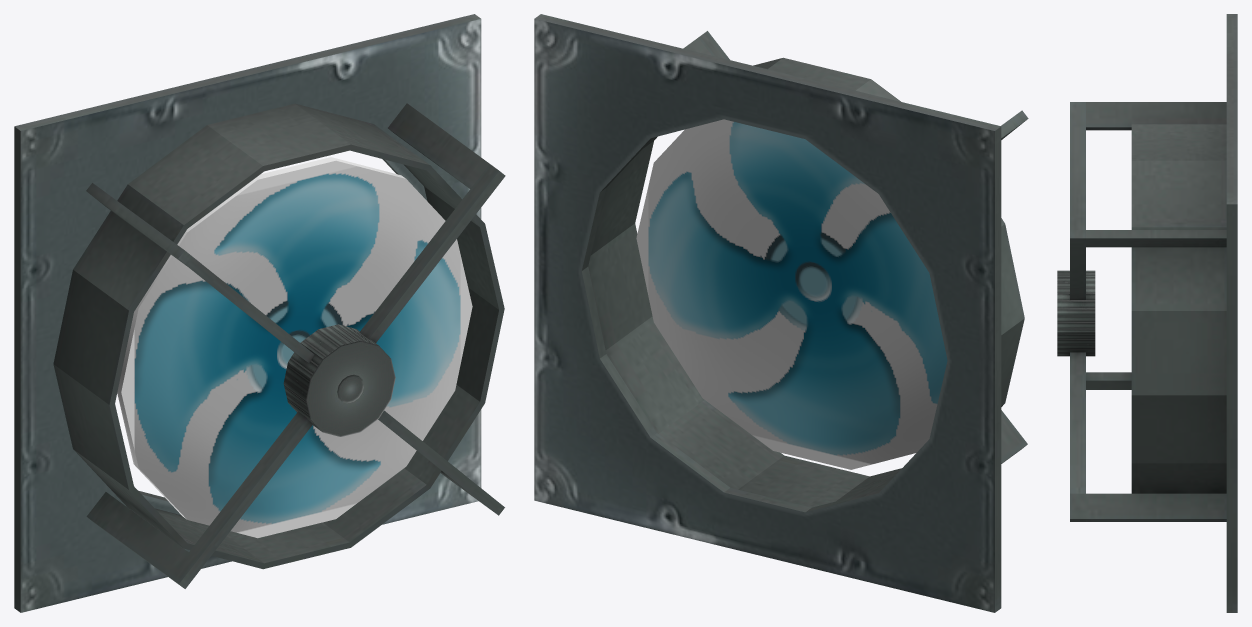
File: fanDuct.gltf
3 views of the same model, side by side, from view 1: azimuth 30°, elevation 25°; view 2: azimuth 150°, elevation 25°; view 3: azimuth 270°, elevation 25° (orthographic). The views are drawn at different scales.
Visible parts, largest first — view 1: fanSteel, fan_A; view 2: fanSteel, fan_A; view 3: fanSteel.
Boxes of the visible parts, bbox=[...] form: fanSteel: bbox=[14, 14, 505, 612]; fan_A: bbox=[117, 157, 472, 538]; fanSteel: bbox=[534, 14, 1028, 612]; fan_A: bbox=[636, 119, 947, 469]; fanSteel: bbox=[1057, 14, 1237, 612].
Size of the model in its own units: 6.25 by 6.25 by 2.5.
Materials: 2 (2 with a texture image).
